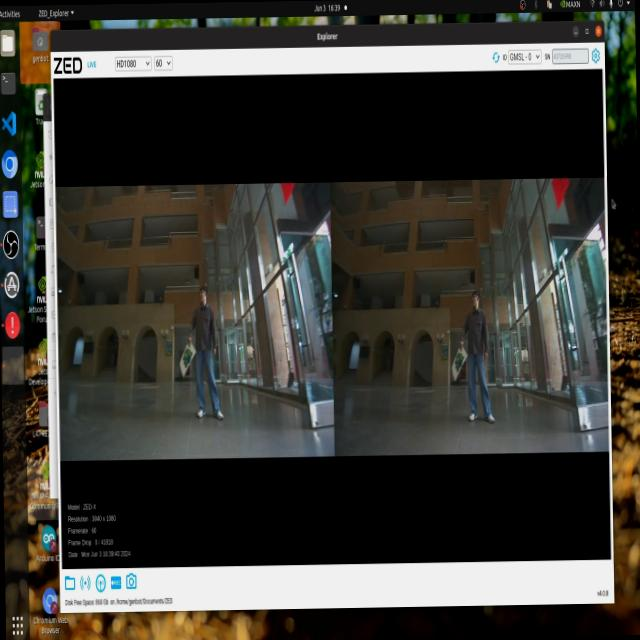green: (179, 342, 195, 370), (450, 348, 466, 374)
